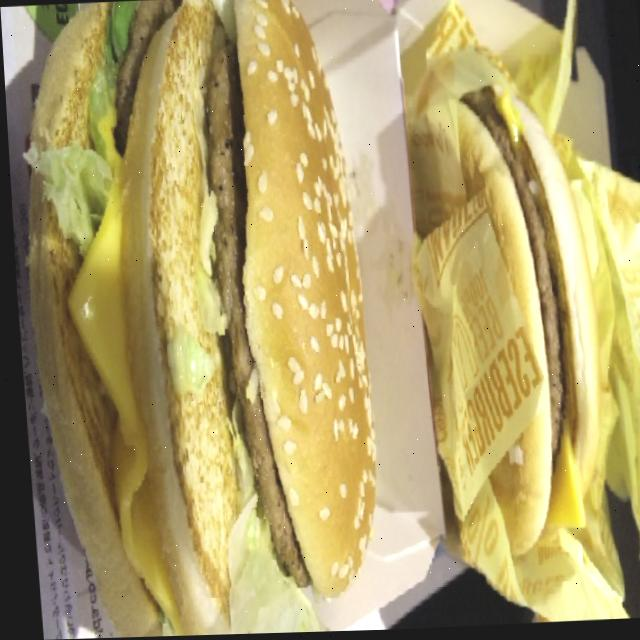汉堡快餐: (3, 0, 396, 640), (473, 70, 620, 553)
